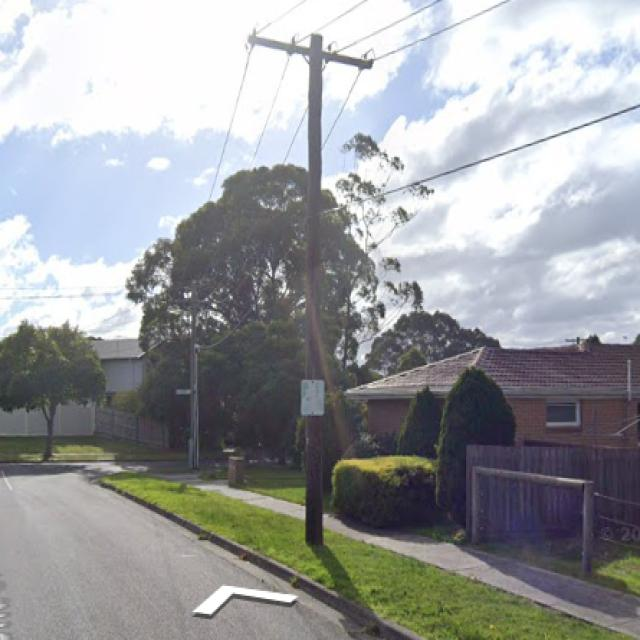crossarm: (248, 36, 374, 71)
timber-pole: (304, 31, 324, 546), (188, 279, 198, 472)
